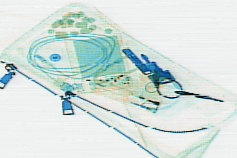lighter: (105, 84, 160, 113)
